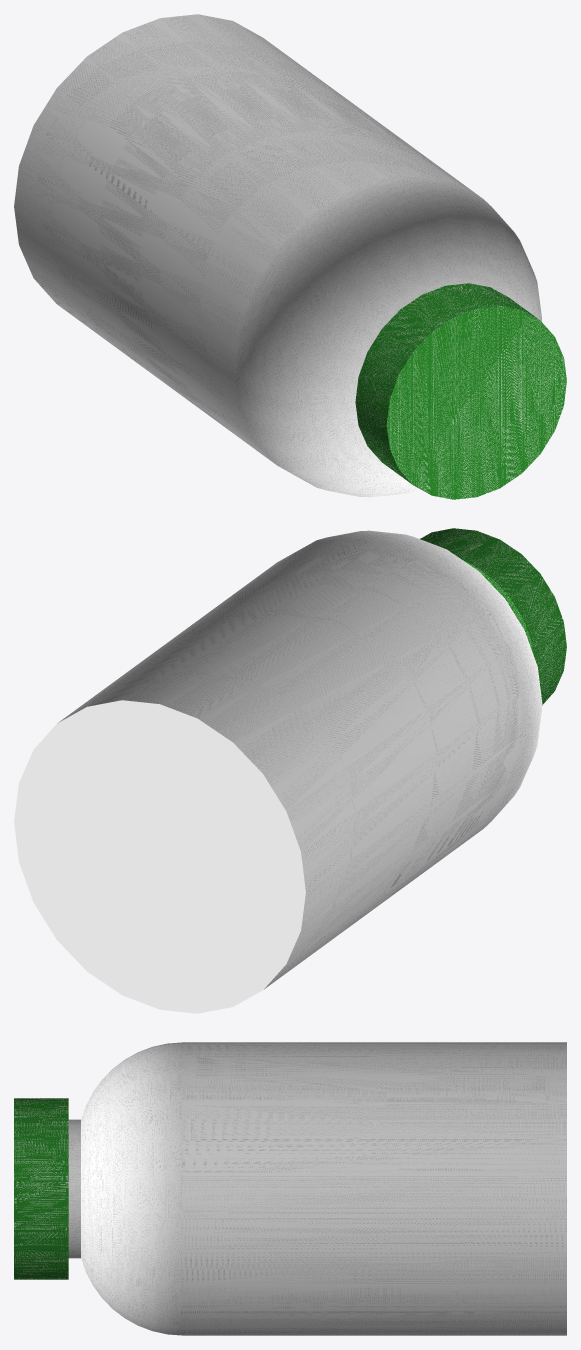
Rendered from model_scale.obj.
3 views of the same model, one above another, from view 1: azimuth 30°, elevation 25°; view 2: azimuth 150°, elevation 25°; view 3: azimuth 270°, elevation 25° (orthographic). The views are drawn at different scales.
Visible parts, largest first — view 1: mesh1_mesh1-geometry; view 2: mesh1_mesh1-geometry; view 3: mesh1_mesh1-geometry.
Boxes of the visible parts, bbox=[...] form: mesh1_mesh1-geometry: bbox=[14, 14, 566, 499]; mesh1_mesh1-geometry: bbox=[14, 528, 566, 1013]; mesh1_mesh1-geometry: bbox=[14, 1042, 566, 1335].
Bounding box in the file's own units: 0.0627 × 0.0627 × 0.1178.
